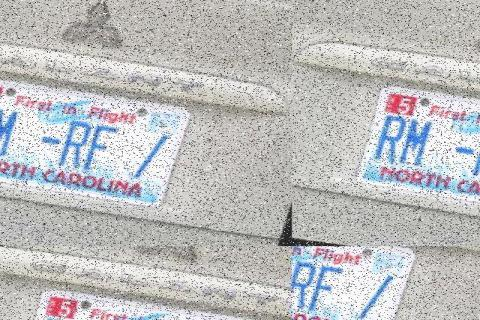LicensePlate: (292, 246, 424, 320), (0, 0, 32, 17), (0, 246, 14, 248)
